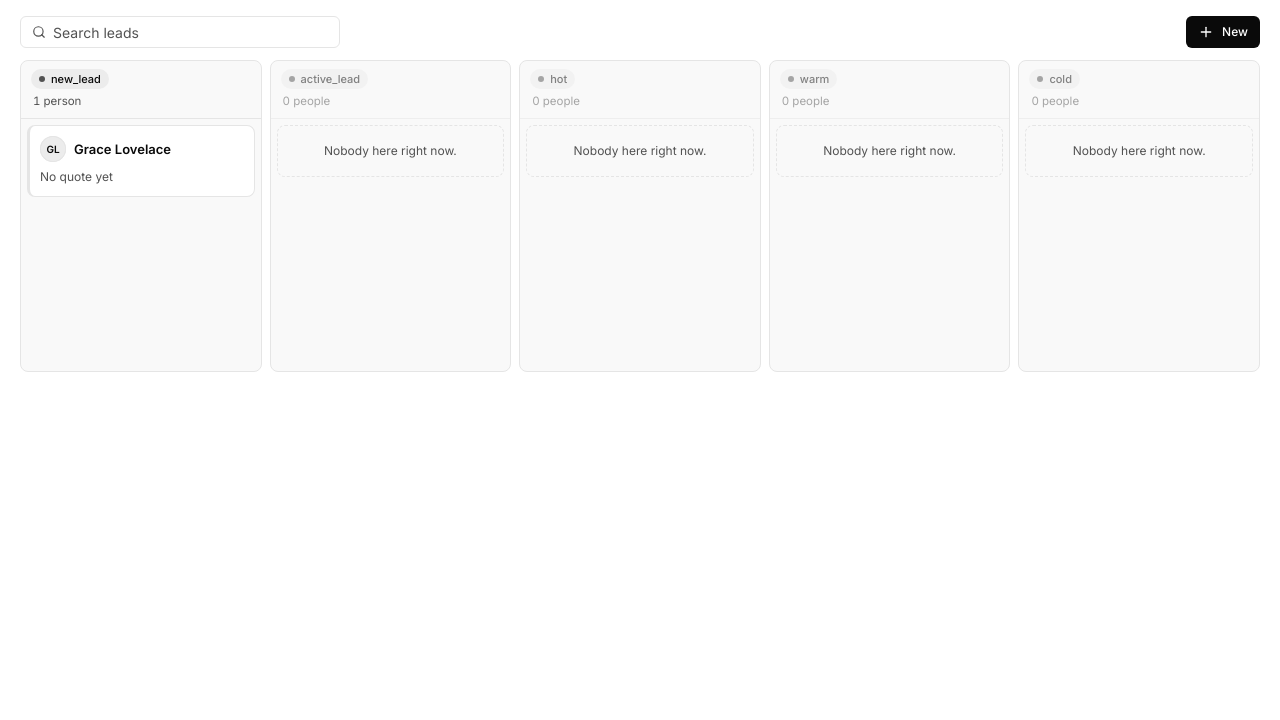
Test: the board › offers no service filter when nothing is quoted, and New opens the quick add
Click the button "New" at (1223, 32), box 1186,16 -> 1260,48
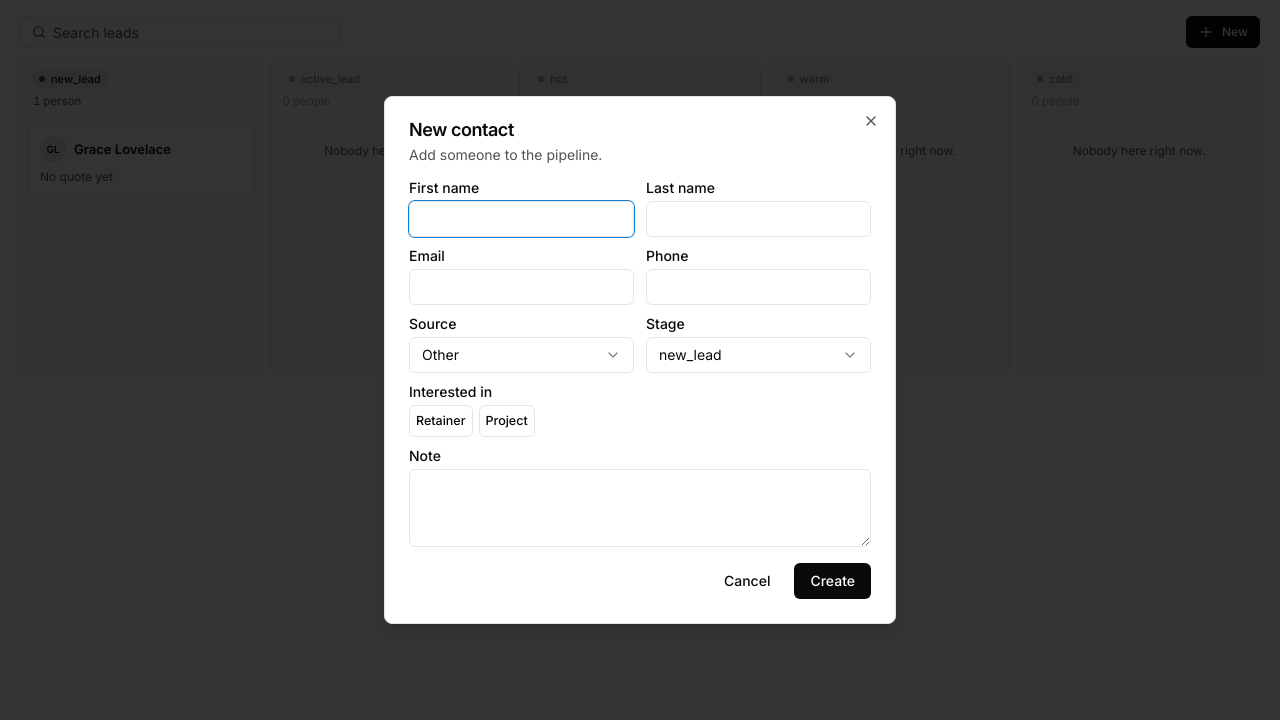
Expected: the dialog "New contact" is shown, 384,96 -> 896,624
